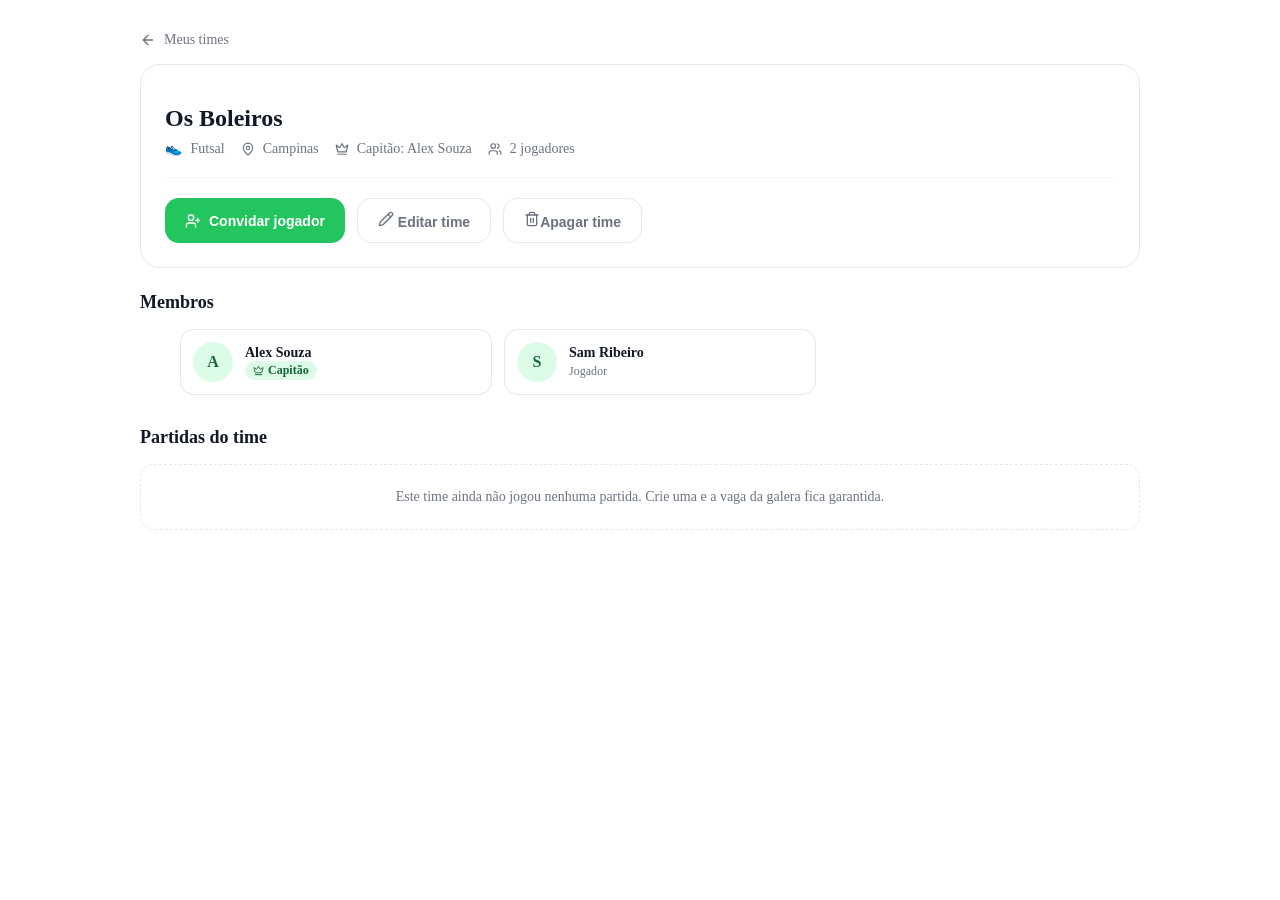
Test: Página do time › Ações do capitão › o formulário de edição chega preenchido com o que o time já é
Step 1. Click the button "Editar time" → click(424, 221), box [357,198,491,243]
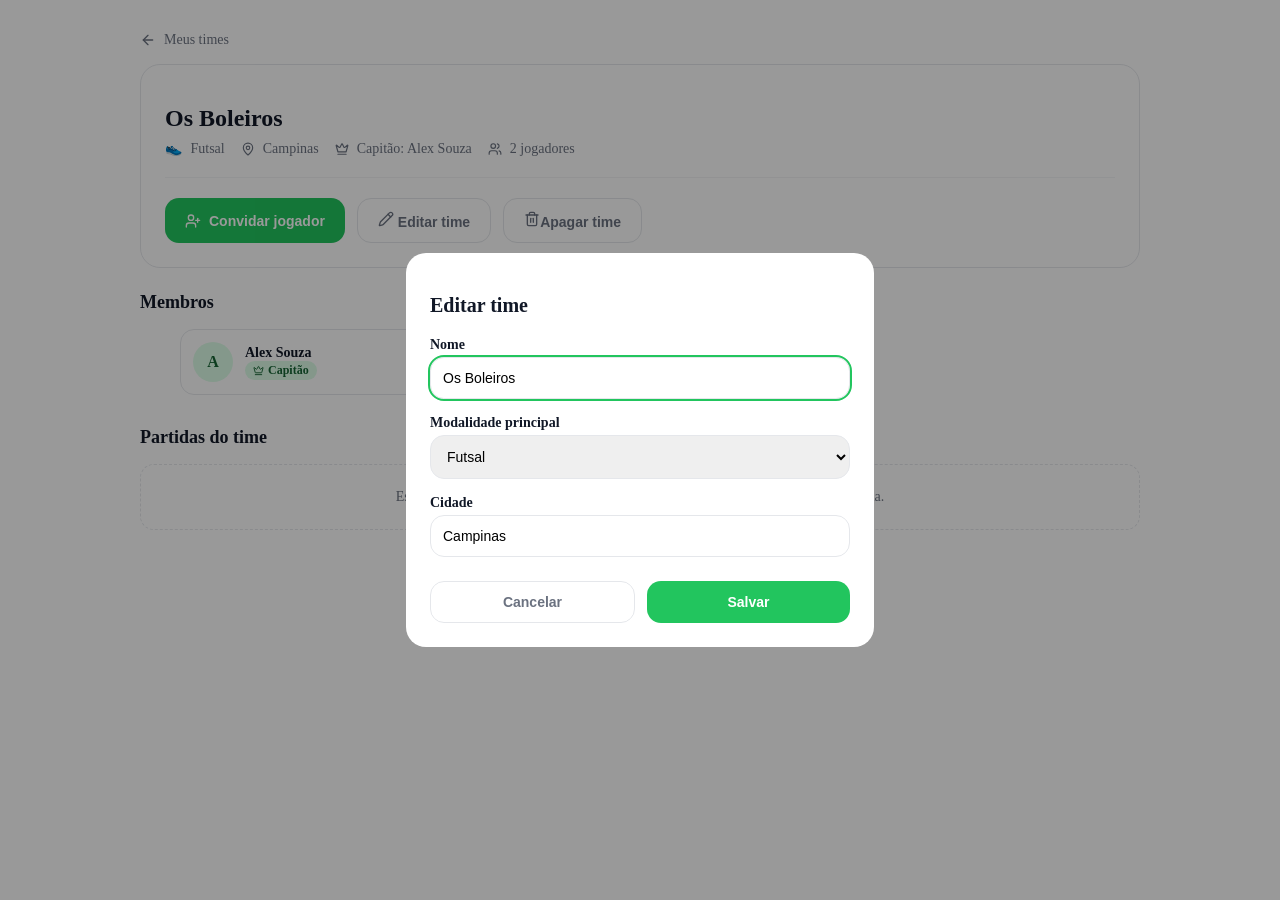
Result: the field labelled "Nome" holds "Os Boleiros" at [430,357,850,399]
Result: the field labelled "Cidade" holds "Campinas" at [430,515,850,557]
